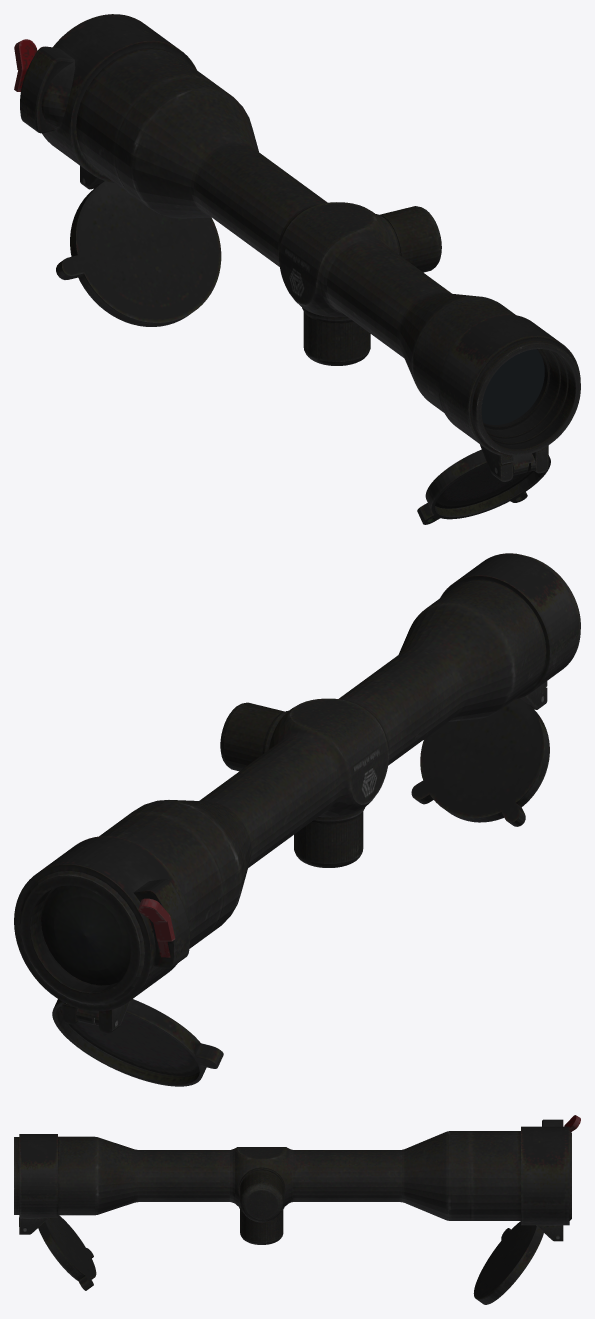
3 views of the same model, one above another, from view 1: azimuth 30°, elevation 25°; view 2: azimuth 150°, elevation 25°; view 3: azimuth 270°, elevation 25° (orthographic). The views are drawn at different scales.
Visible parts, largest first — view 1: TW_5dff772da3651922b360bf91_PZ_Import; view 2: TW_5dff772da3651922b360bf91_PZ_Import; view 3: TW_5dff772da3651922b360bf91_PZ_Import.
Boxes of the visible parts, x1=… form: TW_5dff772da3651922b360bf91_PZ_Import: x1=14, y1=14, x2=580, y2=524; TW_5dff772da3651922b360bf91_PZ_Import: x1=14, y1=553, x2=580, y2=1086; TW_5dff772da3651922b360bf91_PZ_Import: x1=14, y1=1115, x2=580, y2=1304.
Size of the model in its own units: 0.0373 by 0.1591 by 0.0519.
1 material, 1 textured.
